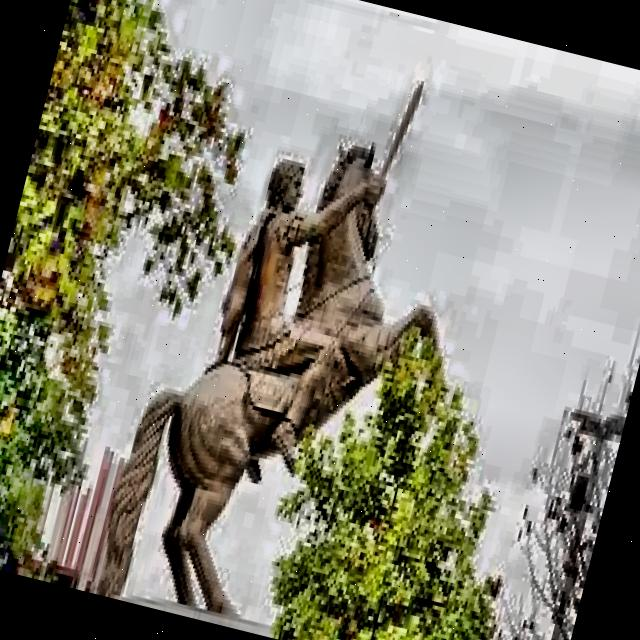alexander the great monument: (84, 24, 515, 640)
